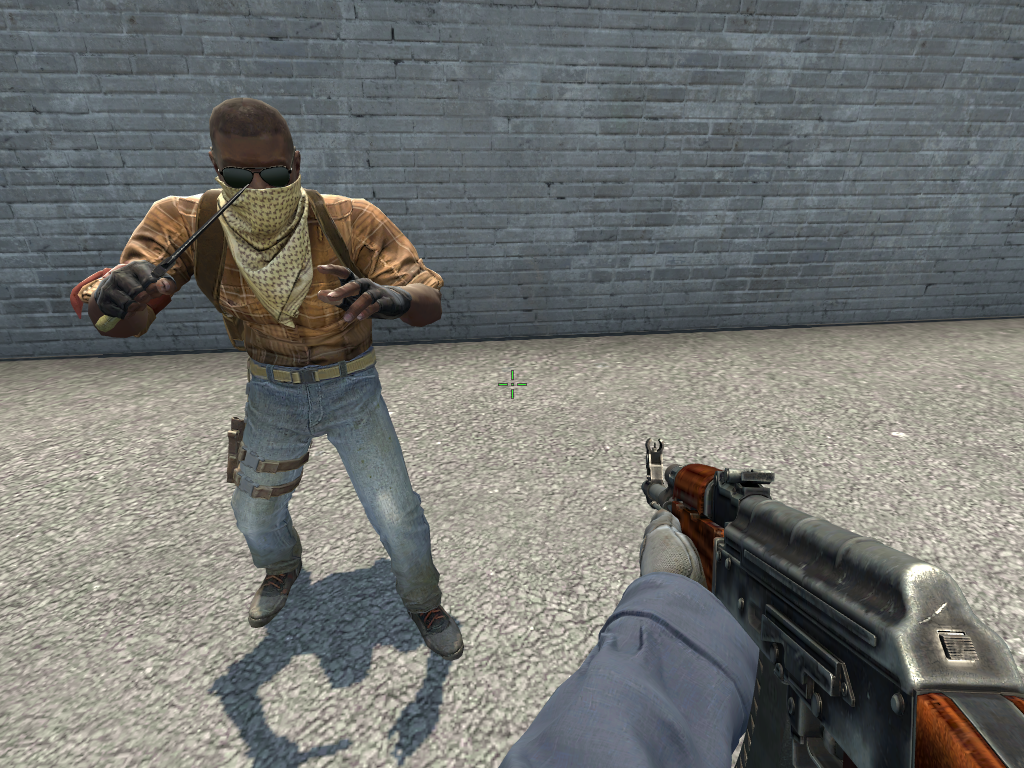tr head: (204, 94, 306, 233)
